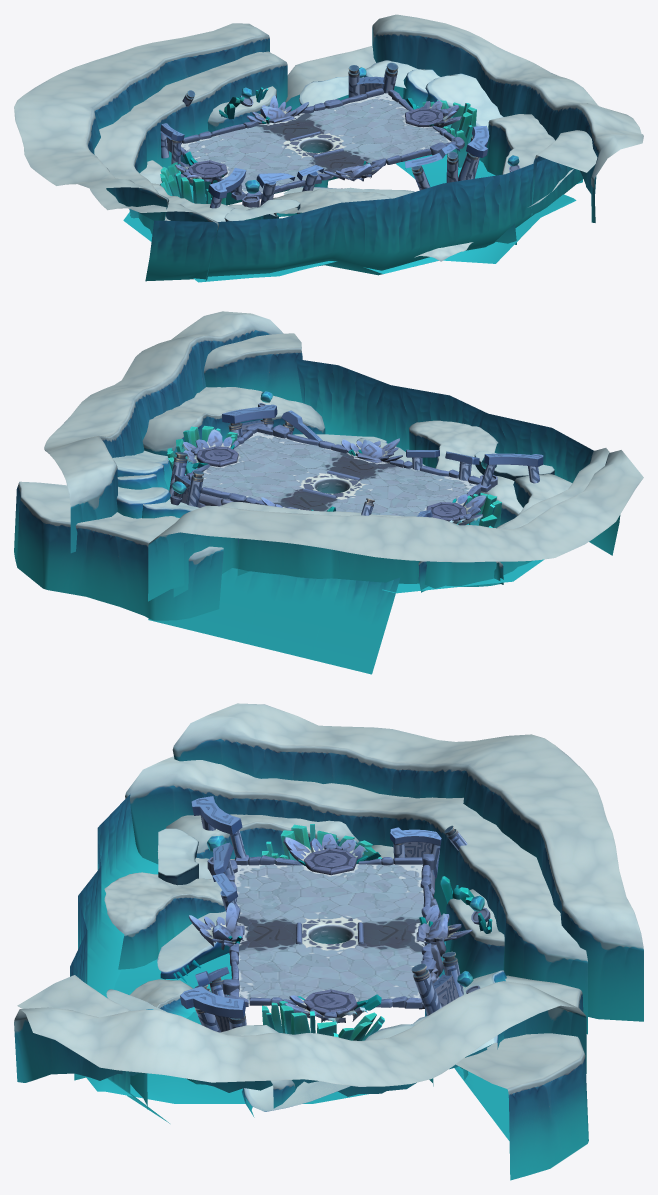
File: ice.fbx
The picture shows the model from 3 angles, top to bottom: view 1: azimuth 30°, elevation 25°; view 2: azimuth 150°, elevation 25°; view 3: azimuth 270°, elevation 25°; orthographic projection. The views are drawn at different scales.
Parts seen in each view (by area): view 1: Ice5; view 2: Ice5; view 3: Ice5.
Part boxes in pixels (bbox=[...]): Ice5: bbox=[14, 14, 643, 282]; Ice5: bbox=[14, 311, 643, 674]; Ice5: bbox=[14, 703, 643, 1180].
Bounding box in the file's own units: 60.82 × 17.42 × 48.43.
